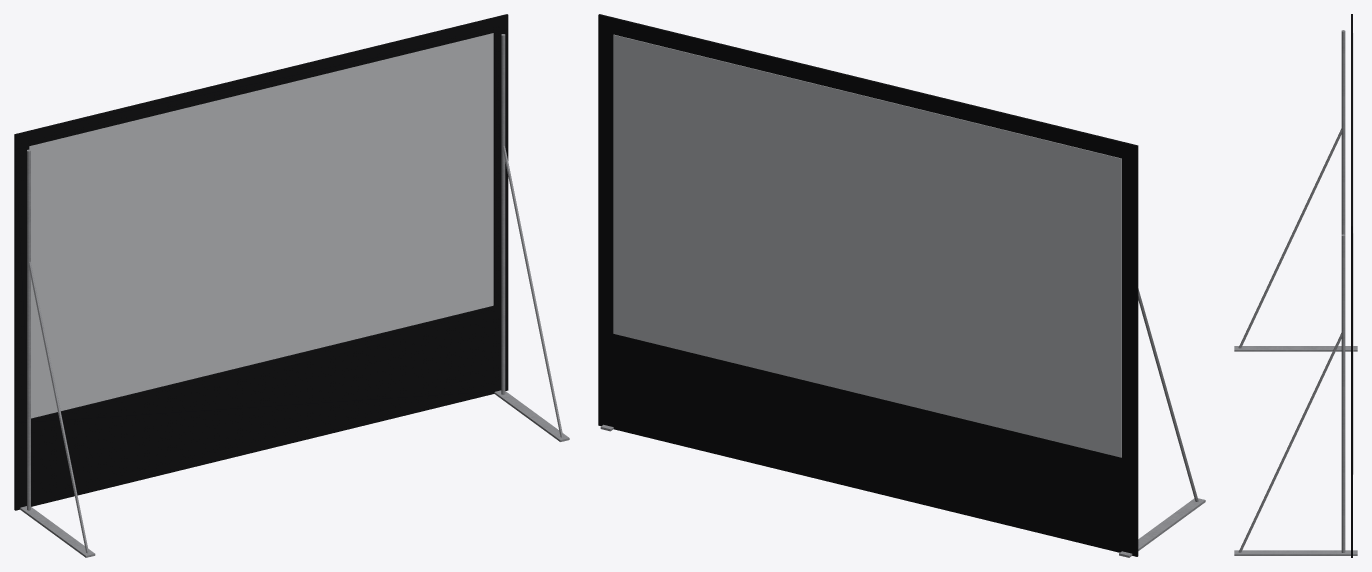
Rendered from screen_rear_16x9.gltf.
3 renders of one model, left to right at view 1: azimuth 30°, elevation 25°; view 2: azimuth 150°, elevation 25°; view 3: azimuth 270°, elevation 25°, orthographic. The views are drawn at different scales.
Visible parts, largest first — view 1: screen_rear_16x9; view 2: screen_rear_16x9; view 3: screen_rear_16x9.
Boxes of the visible parts, x1,y1,x2,y2 form: screen_rear_16x9: [14, 14, 569, 557]; screen_rear_16x9: [598, 14, 1205, 557]; screen_rear_16x9: [1234, 14, 1357, 557].
Size of the model in its own units: 5.3 by 3.87 by 1.3.
Materials: 3 (2 with a texture image).
